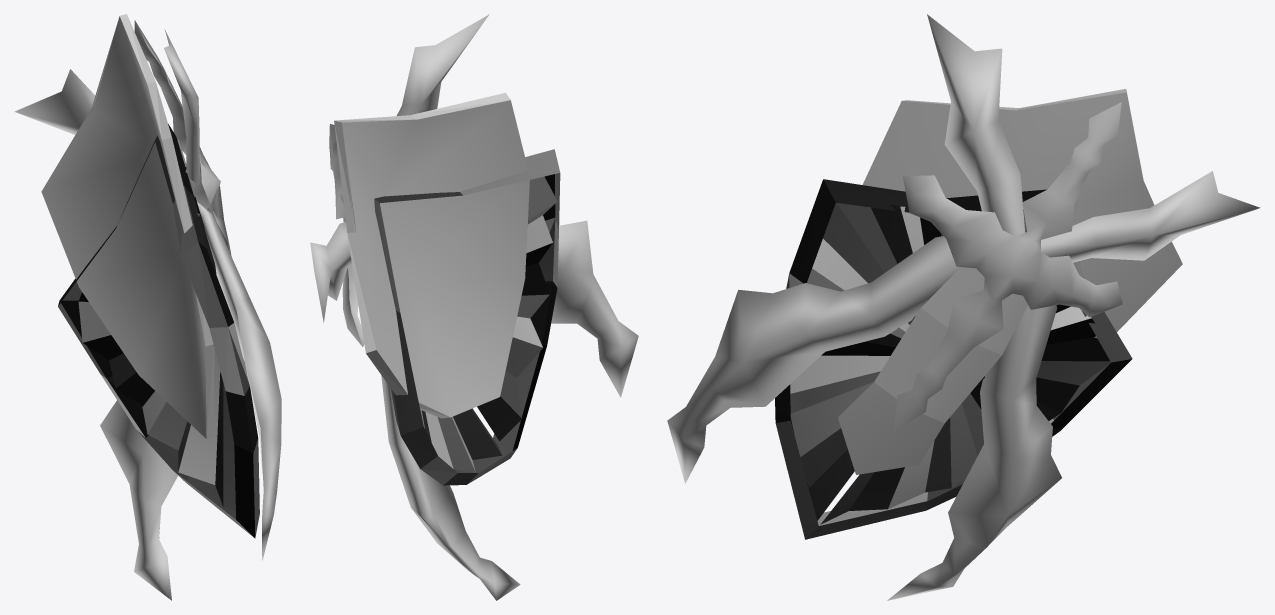
File: shizijiazhidun001.FBX
The picture shows the model from 3 angles, left to right: view 1: azimuth 30°, elevation 25°; view 2: azimuth 150°, elevation 25°; view 3: azimuth 270°, elevation 25°; orthographic projection. The views are drawn at different scales.
Parts seen in each view (by area): view 1: SMDImport; view 2: SMDImport; view 3: SMDImport.
Part boxes in pixels (box(x1,y1,x2,y2)): SMDImport: box(14, 14, 281, 600); SMDImport: box(310, 14, 638, 600); SMDImport: box(667, 14, 1260, 600).
Size of the model in its own units: 29.23 by 126 by 114.
